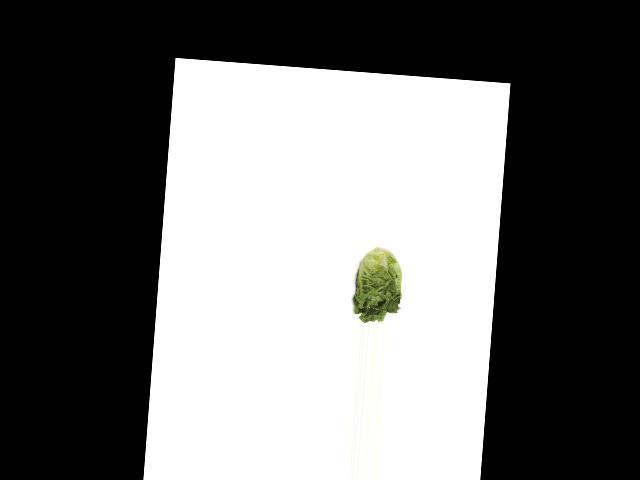lettuce: (348, 245, 409, 323)
